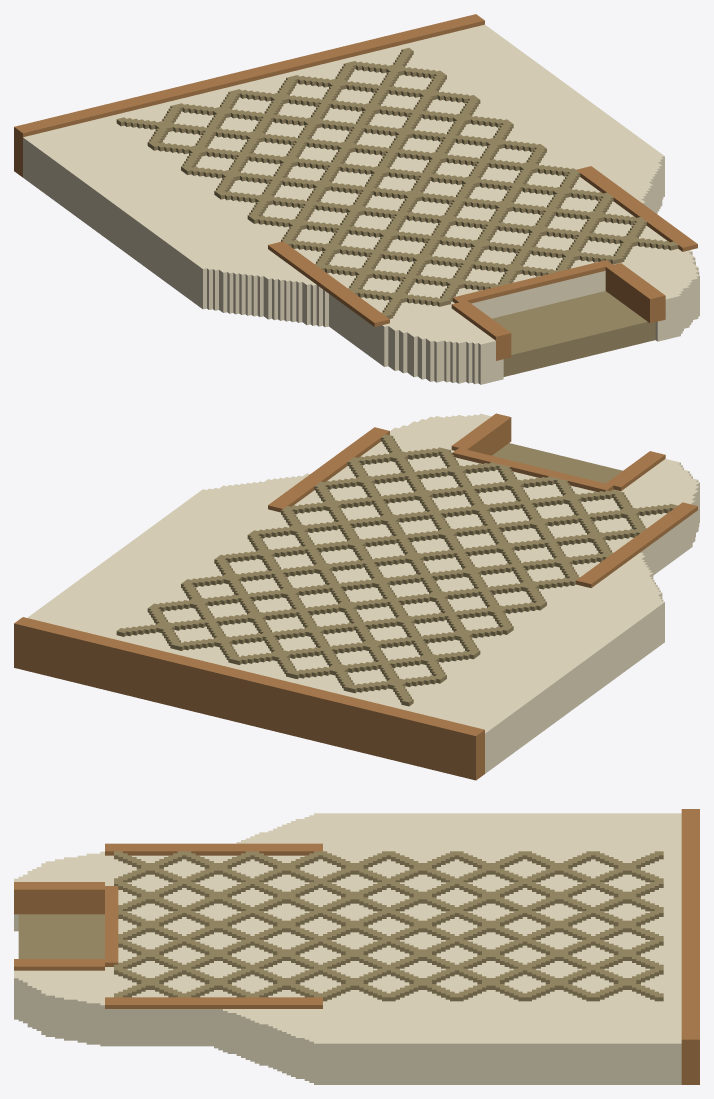
Rendered from armor_aztec.glb.
The picture shows the model from 3 angles, top to bottom: view 1: azimuth 30°, elevation 25°; view 2: azimuth 150°, elevation 25°; view 3: azimuth 270°, elevation 25°; orthographic projection. The views are drawn at different scales.
Parts seen in each view (by area): view 1: armor_aztec:compound; view 2: armor_aztec:compound; view 3: armor_aztec:compound.
Part boxes in pixels (x1,y1,x2,y2): armor_aztec:compound: (14, 14, 699, 384); armor_aztec:compound: (14, 413, 699, 780); armor_aztec:compound: (14, 809, 699, 1084).
Bounding box in the file's own units: 0.48 × 0.044 × 0.604.
